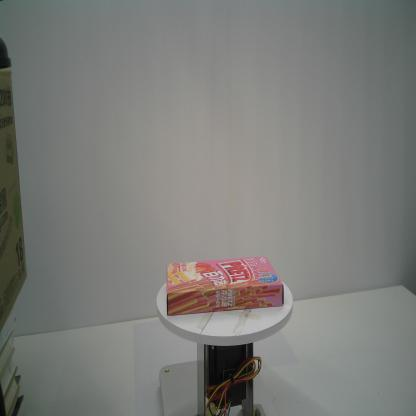Dessert: (164, 254, 285, 316)
